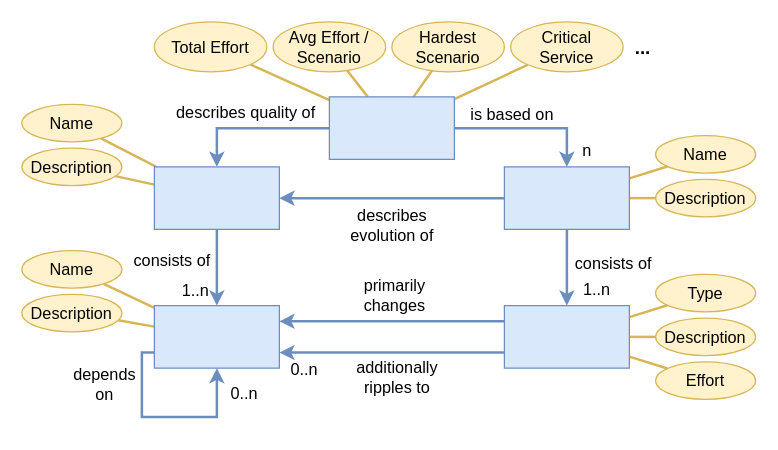
This 778x450 diagram has some shape labels left out. Here are the shapes that lost their labels. From the top down, the centre of each, then its label:
At pixel 391 127: "Evaluation".
At pixel 216 197: "System".
At pixel 566 197: "Scenario".
At pixel 216 336: "Service".
At pixel 566 336: "Change".
